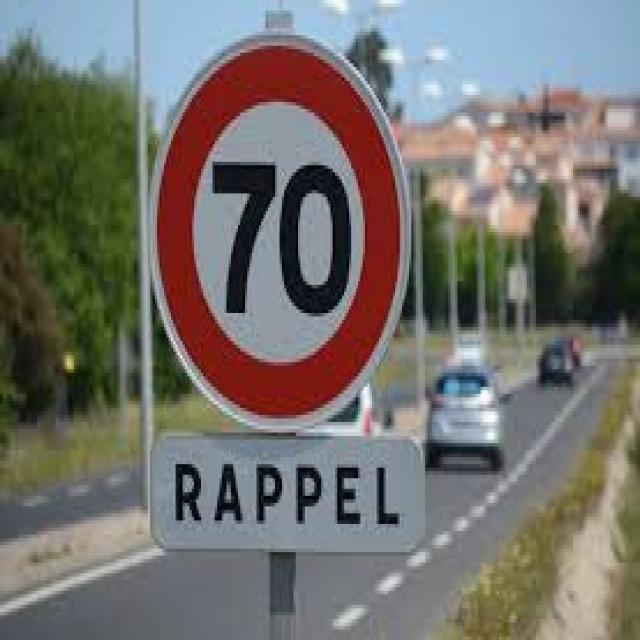speed_70: (146, 36, 412, 431)
